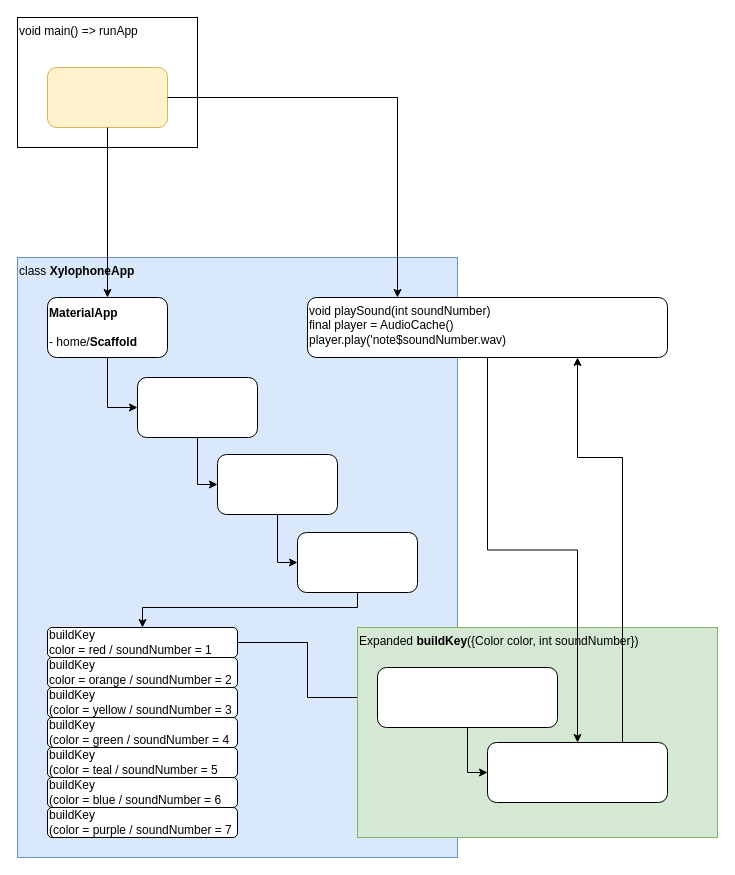
Image size: 735x875. Some labels were removed from this diagram. Each missing label, with the centre of its shape:
Column - crossAxisAlignment - children >>>: the point at 357,562
Expanded - child/TextButton(onPressed): the point at 467,697
onPressed - playSound(soundNumber): the point at 577,772
SafeArea - child/Column: the point at 277,484
Scaffold - body/ SafeArea - backgroundColor: the point at 197,407
XylophoneApp() -: the point at 107,97
